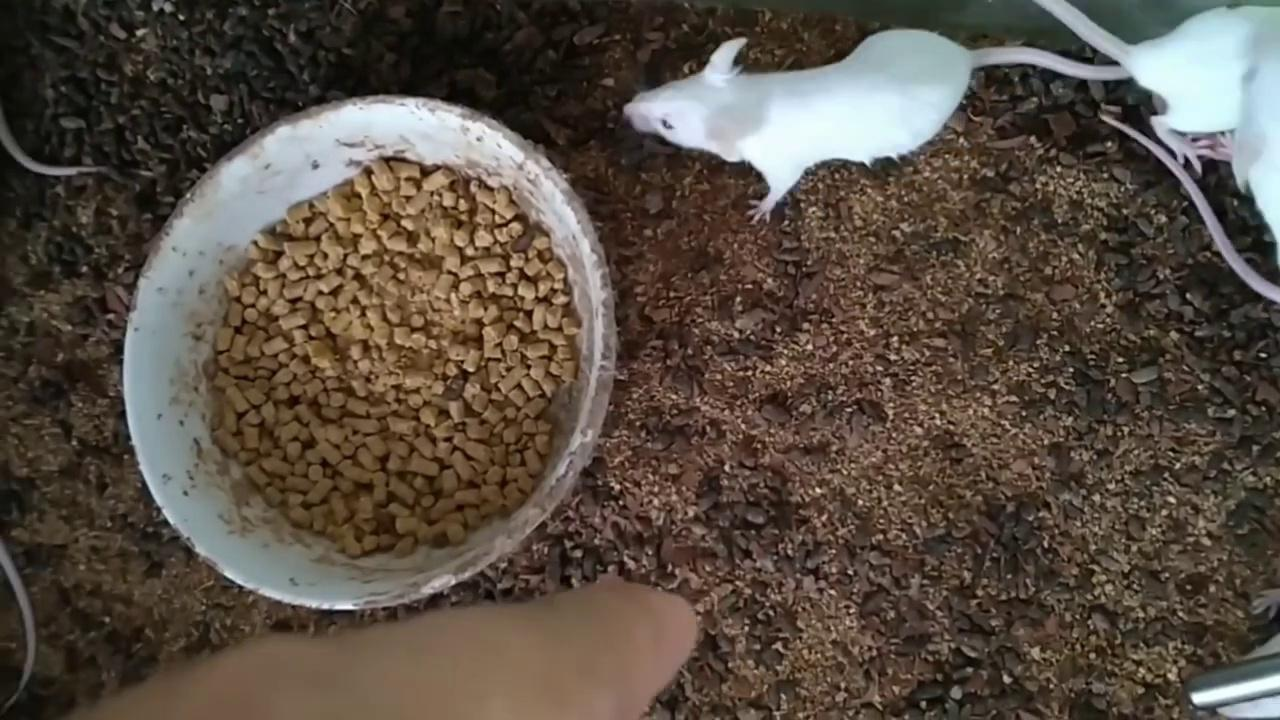rat: (625, 28, 1134, 225), (1033, 0, 1280, 172)
